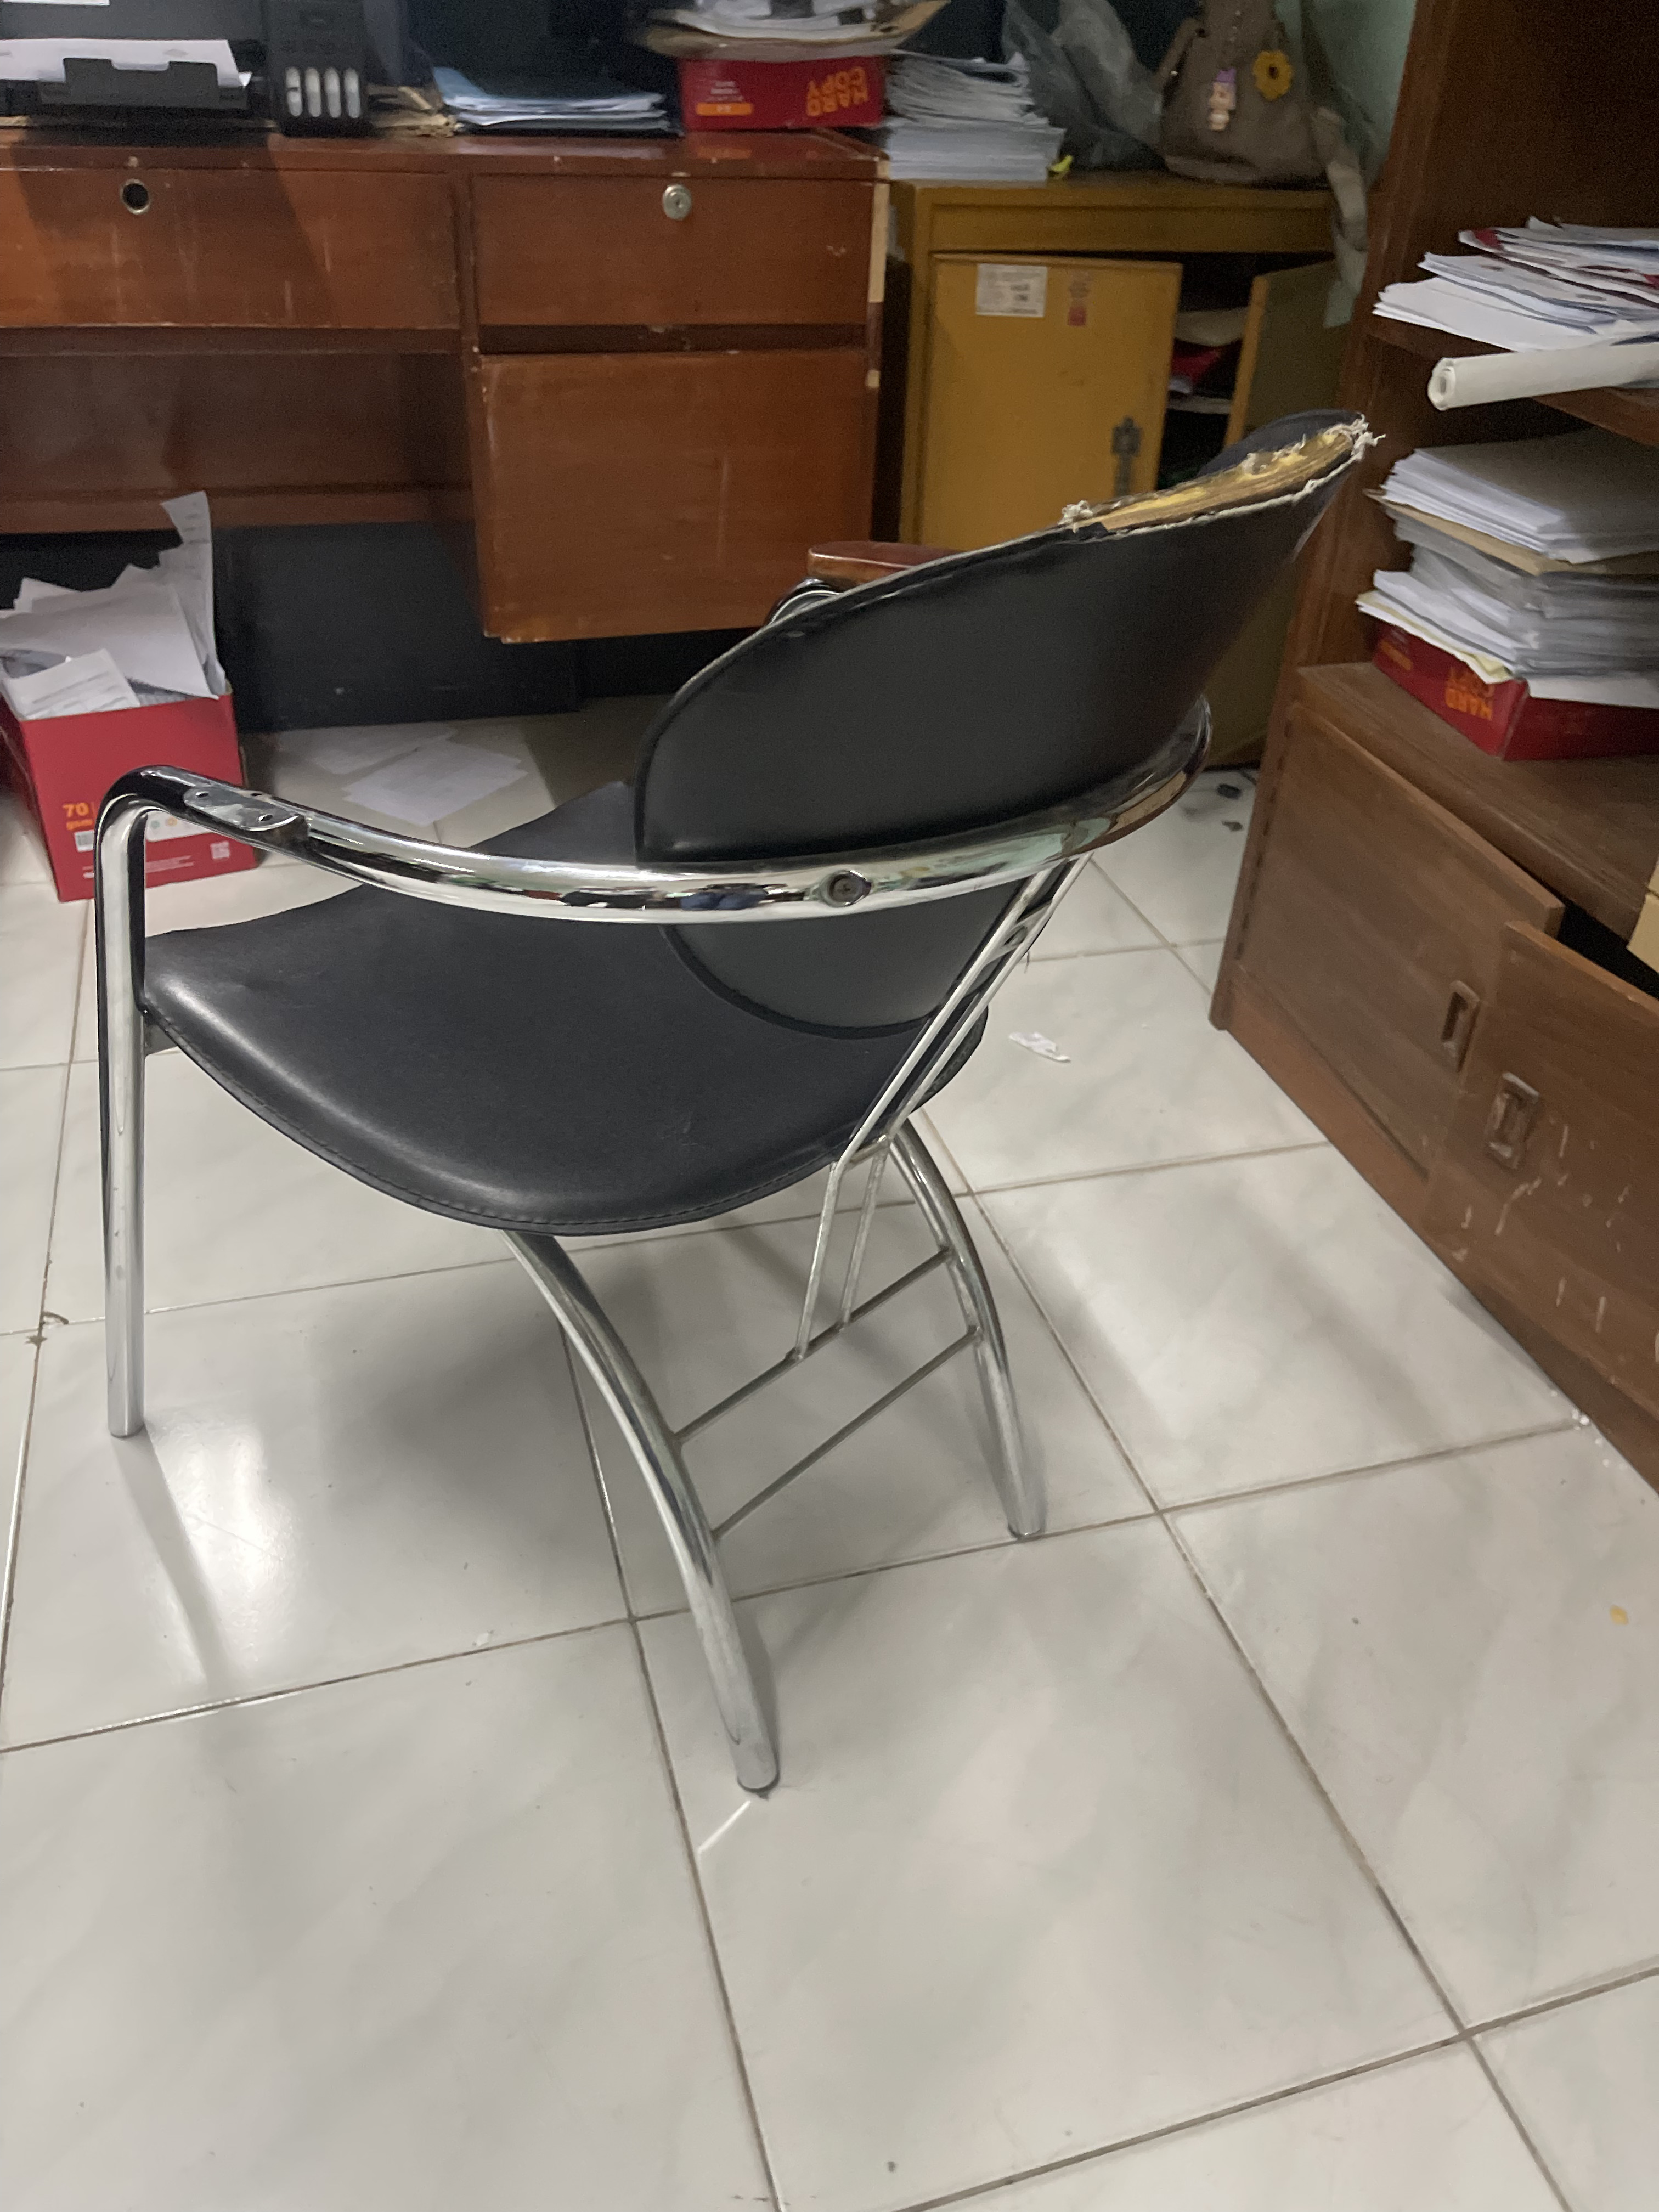chair1: (66, 408, 1392, 1799)
